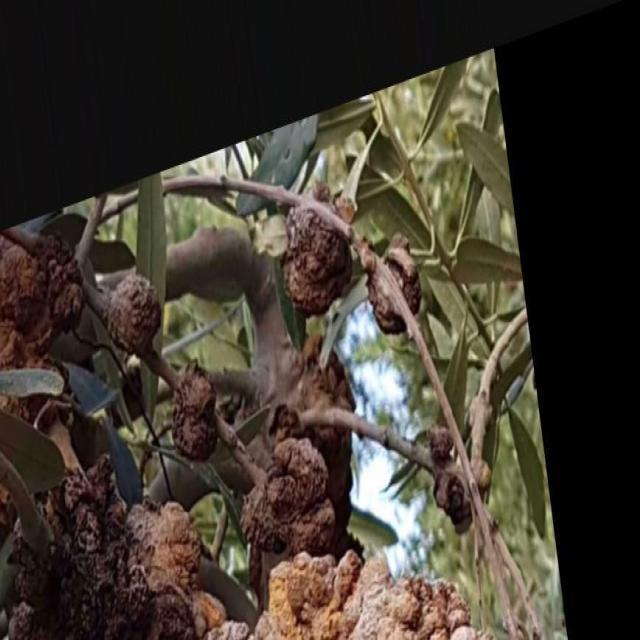Tuberculosis: (8, 463, 225, 639), (255, 553, 470, 639), (0, 230, 83, 370), (242, 436, 334, 552), (282, 207, 352, 318), (106, 274, 162, 360), (428, 424, 470, 534), (172, 360, 216, 462), (382, 234, 421, 312), (368, 273, 406, 334), (310, 181, 354, 223)
